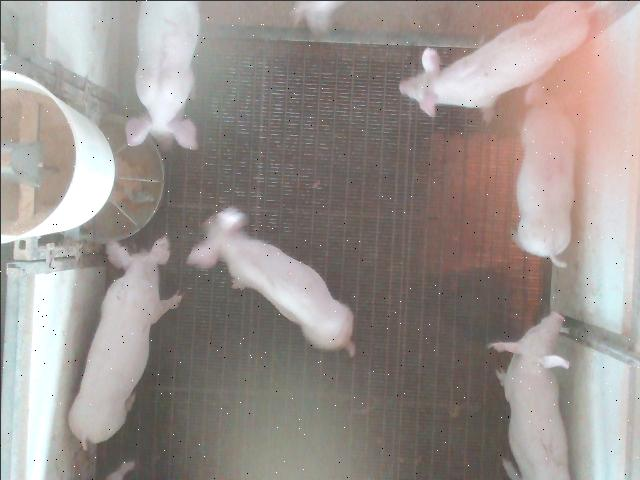pig-3: (125, 2, 199, 147)
